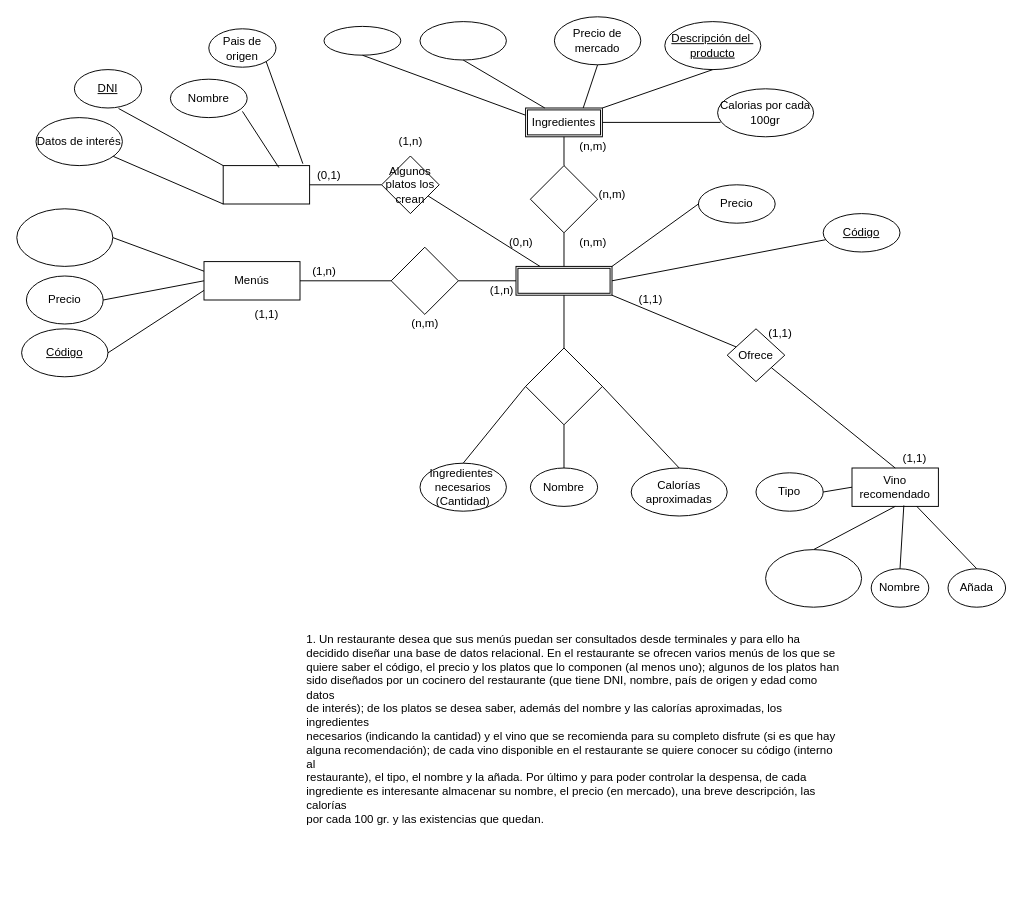
The diagram is 1022 pixels wide and 902 high, and some of its shapes have lost their labels. Each missing label, with the centre of its shape:
Cocineros del restaurante: the point at 266,184
Código interno al restaurante: the point at 813,578
Existencias: the point at 362,40
Nombre de ingrediente: the point at 462,40
Para llevar un control: the point at 563,199
Platos: the point at 563,280
Platos que lo componen: the point at 64,237
Se componen de:: the point at 563,386
Tiienen: the point at 424,280
